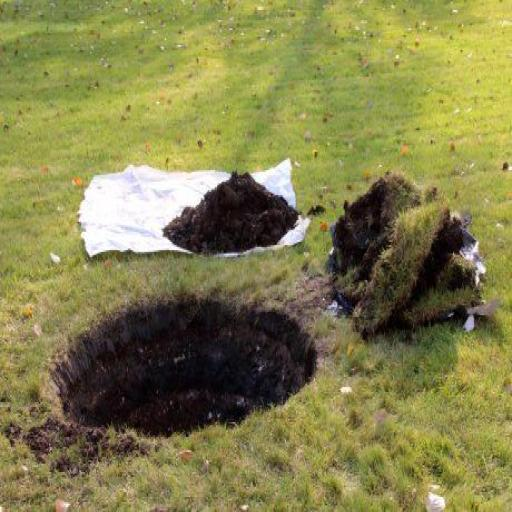entrance: (54, 299, 316, 435)
